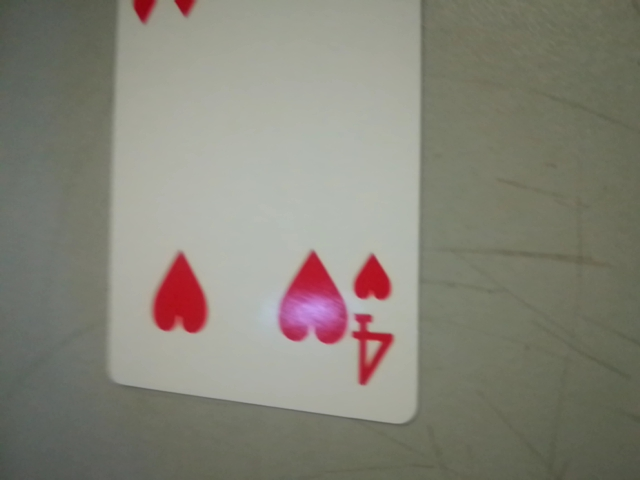hx 4: (337, 243, 409, 397)
